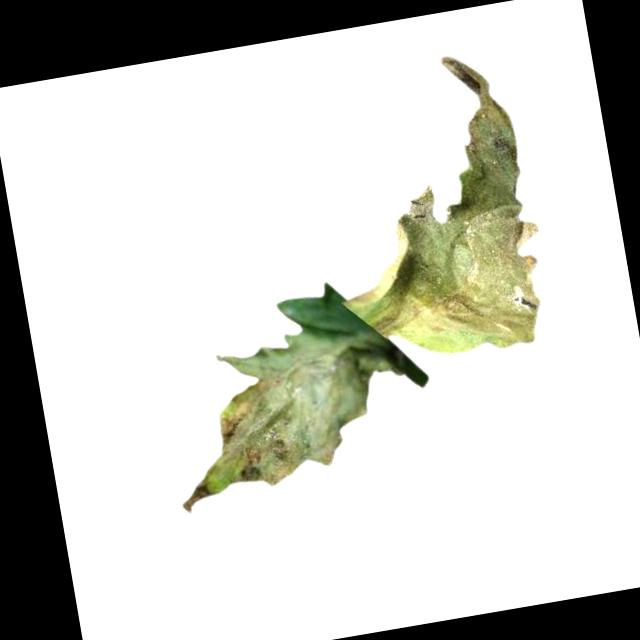Late_blight: (312, 45, 557, 374), (156, 309, 423, 515)
